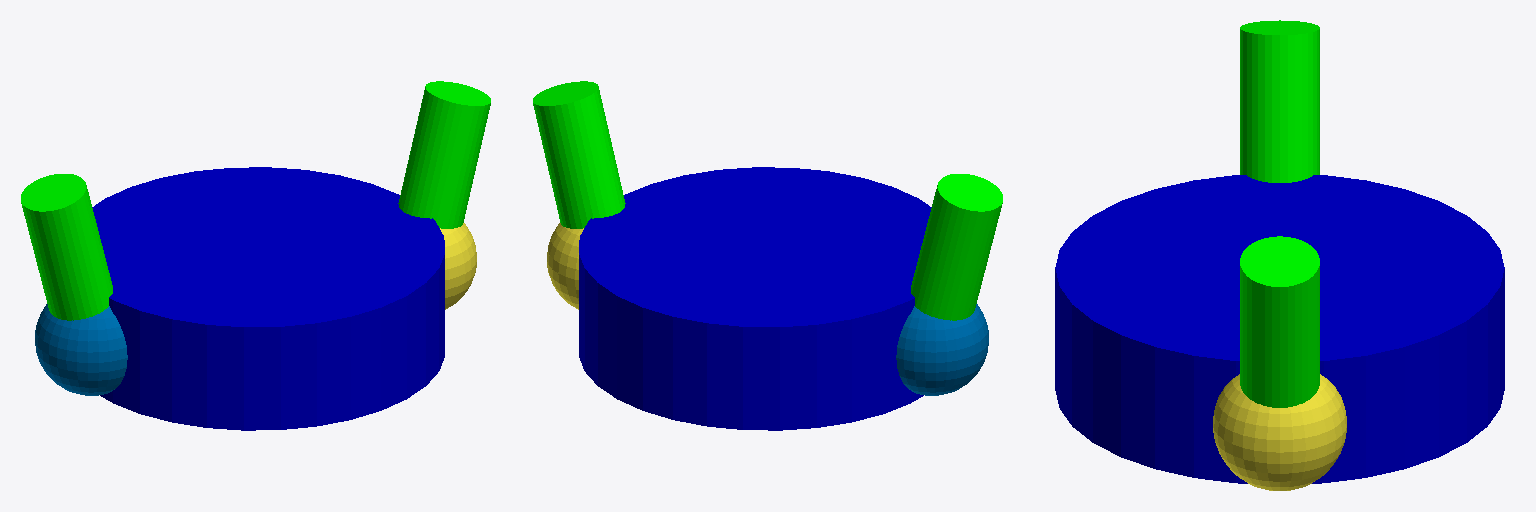
URDF robot description (gripper_2f_1j):
<?xml version='1.0' encoding='UTF-8'?>
<robot name="gripper_2f_1j">
  <link name="palm">
    <inertial>
      <origin xyz="0.0 0.0 0.0" rpy="0.0 -0.0 0.0"/>
      <mass value="1.0"/>
      <inertia ixx="1.0" ixy="0.0" ixz="0.0" iyy="1.0" iyz="0.0" izz="1.0"/>
    </inertial>
    <visual>
      <geometry>
        <cylinder radius="0.05" length="0.03"/>
      </geometry>
      <material name="blue"/>
      <origin xyz="0.0 0.0 0.0" rpy="0.0 -0.0 0.0"/>
    </visual>
    <collision>
      <geometry>
        <cylinder radius="0.05" length="0.03"/>
      </geometry>
      <origin xyz="0.0 0.0 0.0" rpy="0.0 0.0 0.0"/>
    </collision>
  </link>
  <link name="f11">
    <inertial>
      <origin xyz="0.0 0.0 0.0" rpy="0.0 -0.0 0.0"/>
      <mass value="1.0"/>
      <inertia ixx="1.0" ixy="0.0" ixz="0.0" iyy="1.0" iyz="0.0" izz="1.0"/>
    </inertial>
    <visual>
      <geometry>
        <cylinder radius="0.008919784866152107" length="0.04671896175161852"/>
      </geometry>
      <material name="green"/>
      <origin xyz="0.0 0.0 0.02335948087580926" rpy="0.0 -0.0 0.0"/>
    </visual>
    <collision>
      <geometry>
        <cylinder radius="0.008919784866152107" length="0.04671896175161852"/>
      </geometry>
      <origin xyz="0.0 0.0 0.05" rpy="0.0 0.0 0.0"/>
    </collision>
  </link>
  <link name="f21">
    <inertial>
      <origin xyz="0.0 0.0 0.0" rpy="0.0 -0.0 0.0"/>
      <mass value="1.0"/>
      <inertia ixx="1.0" ixy="0.0" ixz="0.0" iyy="1.0" iyz="0.0" izz="1.0"/>
    </inertial>
    <visual>
      <geometry>
        <cylinder radius="0.008919784866152107" length="0.04671896175161852"/>
      </geometry>
      <material name="green"/>
      <origin xyz="0.0 0.0 0.02335948087580926" rpy="0.0 -0.0 0.0"/>
    </visual>
    <collision>
      <geometry>
        <cylinder radius="0.008919784866152107" length="0.04671896175161852"/>
      </geometry>
      <origin xyz="0.0 0.0 0.05" rpy="0.0 0.0 0.0"/>
    </collision>
  </link>
  <link name="f11_base">
    <inertial>
      <origin xyz="0.0 0.0 0.0" rpy="0.0 -0.0 0.0"/>
      <mass value="1.0"/>
      <inertia ixx="1.0" ixy="0.0" ixz="0.0" iyy="1.0" iyz="0.0" izz="1.0"/>
    </inertial>
    <visual>
      <geometry>
        <sphere radius="0.015"/>
      </geometry>
      <origin xyz="0.0 0.0 0.0" rpy="0.0 -0.0 0.0"/>
    </visual>
  </link>
  <link name="f21_base">
    <inertial>
      <origin xyz="0.0 0.0 0.0" rpy="0.0 -0.0 0.0"/>
      <mass value="1.0"/>
      <inertia ixx="1.0" ixy="0.0" ixz="0.0" iyy="1.0" iyz="0.0" izz="1.0"/>
    </inertial>
    <visual>
      <geometry>
        <sphere radius="0.015"/>
      </geometry>
      <origin xyz="0.0 0.0 0.0" rpy="0.0 -0.0 0.0"/>
    </visual>
  </link>
  <joint name="f11_joint" type="revolute">
    <dynamics damping="100.0" friction="1.0"/>
    <limit effort="30.0" velocity="2.0" lower="-0.6" upper="0.25"/>
    <parent link="f11_base"/>
    <child link="f11"/>
    <axis xyz="0. 1. 0."/>
    <origin xyz="0.0 0.0 0.0" rpy="0.0 0.25 0.0"/>
  </joint>
  <joint name="f21_joint" type="revolute">
    <dynamics damping="100.0" friction="1.0"/>
    <limit effort="30.0" velocity="2.0" lower="-0.6" upper="0.25"/>
    <parent link="f21_base"/>
    <child link="f21"/>
    <axis xyz=" 0. -1.  0."/>
    <origin xyz="0.0 0.0 0.0" rpy="0.0 -0.25 0.0"/>
  </joint>
  <joint name="f11_base_joint" type="fixed">
    <parent link="palm"/>
    <child link="f11_base"/>
    <axis xyz="1. 0. 0."/>
    <origin xyz="0.05 0.0 0.0" rpy="0.0 0.0 0.0"/>
  </joint>
  <joint name="f21_base_joint" type="fixed">
    <parent link="palm"/>
    <child link="f21_base"/>
    <axis xyz="1. 0. 0."/>
    <origin xyz="-0.05 -0.0 0.0" rpy="0.0 0.0 0.0"/>
  </joint>
  <material name="blue">
    <color rgba="0.  0.  0.8 1. "/>
  </material>
  <material name="green">
    <color rgba="0. 1. 0. 1."/>
  </material>
</robot>

--- What the picture shows (computed from the rendered views, not written in the file) ---
3 views of the same robot in one strip: view 1: azimuth 30°, elevation 25°; view 2: azimuth 150°, elevation 25°; view 3: azimuth 270°, elevation 25° (orthographic).
Robot: gripper_2f_1j — 5 links, 4 joints (2 revolute, 2 fixed); root link palm; default pose: every joint at zero.
Links seen in each view (by area): view 1: palm, f21, f11, f21_base, f11_base; view 2: palm, f21, f11, f21_base, f11_base; view 3: palm, f11, f21, f11_base.
Link boxes in pixels (x1,y1,x2,y2): palm: (92,167,444,430); f21: (21,174,112,320); f11: (398,81,490,228); f21_base: (35,304,127,395); f11_base: (440,223,476,309); palm: (579,167,931,430); f21: (911,174,1002,320); f11: (533,81,625,228); f21_base: (896,304,988,395); f11_base: (547,223,583,309); palm: (1055,175,1504,483); f11: (1240,236,1319,407); f21: (1240,20,1319,182); f11_base: (1213,374,1346,490).
Bounding box of the posed robot: 0.1404 × 0.1 × 0.0625 m (x, y, z).
Geometry: primitives only (box / cylinder / sphere), no mesh files.